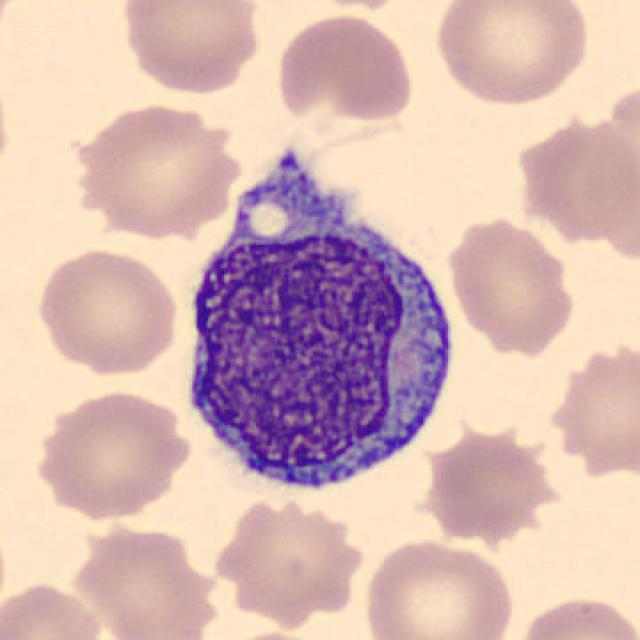Monocyte: (174, 145, 466, 508)
RBC: (64, 99, 247, 240), (28, 386, 195, 520), (32, 245, 183, 379), (442, 211, 578, 358), (207, 497, 365, 622), (272, 9, 418, 134), (428, 0, 595, 109), (359, 534, 517, 640), (71, 524, 216, 639), (427, 427, 559, 548), (517, 116, 640, 244), (117, 0, 265, 97), (549, 344, 640, 479), (0, 576, 108, 640), (510, 590, 638, 640), (206, 627, 336, 640)
